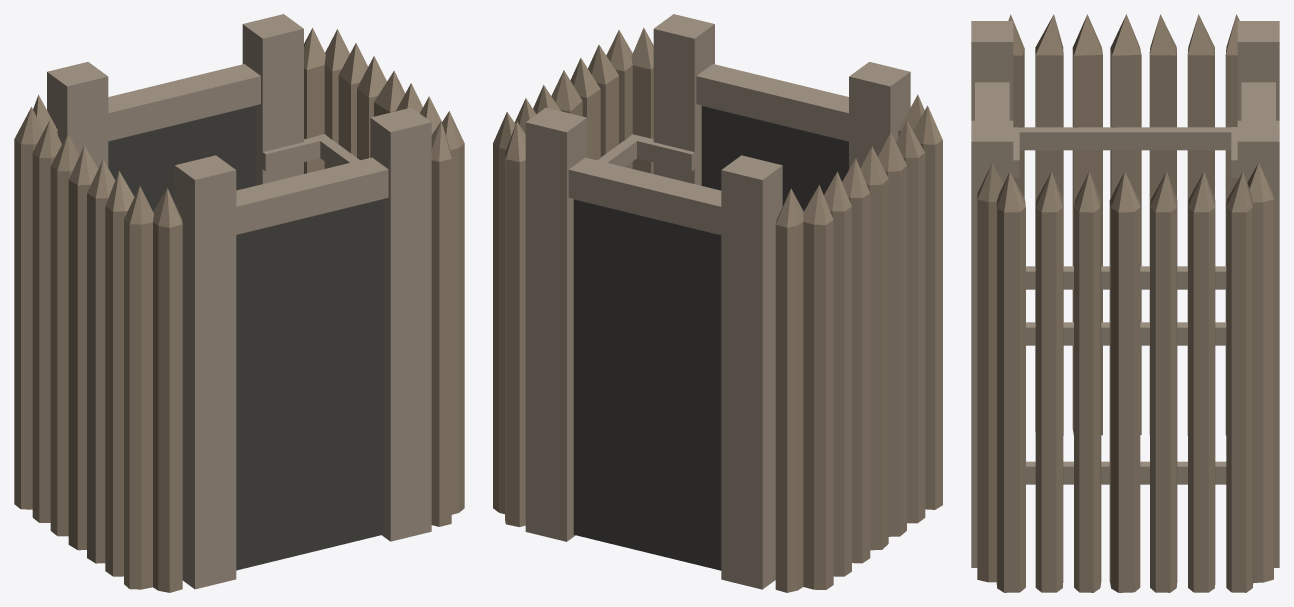
File: first_fort_covered_way_bank_lower__first_fort_1803.glb
The picture shows the model from 3 angles, left to right: view 1: azimuth 30°, elevation 25°; view 2: azimuth 150°, elevation 25°; view 3: azimuth 270°, elevation 25°; orthographic projection. The views are drawn at different scales.
Parts seen in each view (by area): view 1: first_fort_covered_way_bank_lower__first_fort_1803; view 2: first_fort_covered_way_bank_lower__first_fort_1803; view 3: first_fort_covered_way_bank_lower__first_fort_1803.
Boxes of the visible parts, x1,y1,x2,y2 form: first_fort_covered_way_bank_lower__first_fort_1803: (14,14,464,592); first_fort_covered_way_bank_lower__first_fort_1803: (493,14,942,592); first_fort_covered_way_bank_lower__first_fort_1803: (971,14,1279,592).
Bounding box in the file's own units: 3.25 × 3.8 × 2.49.
